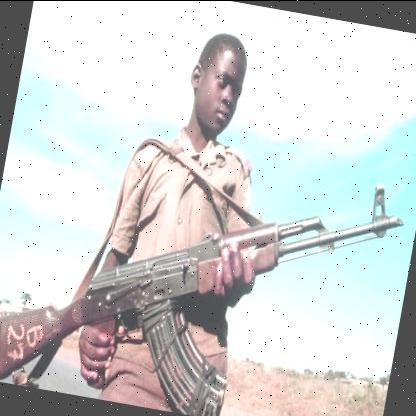rifle: (0, 143, 402, 416)
